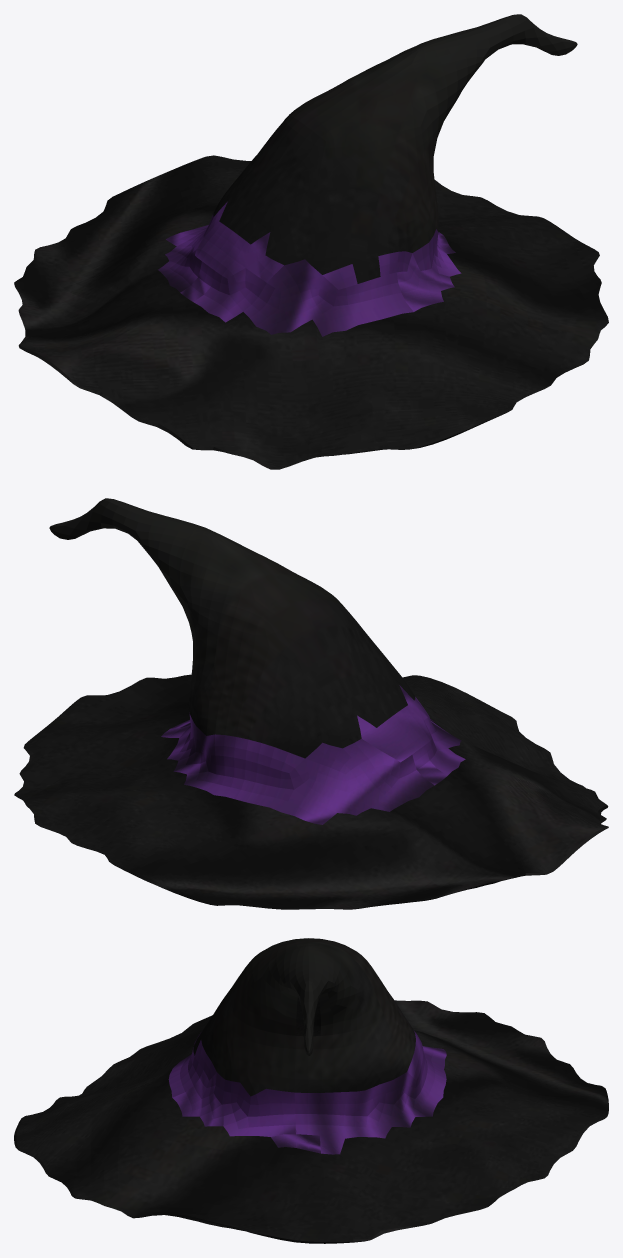
Rendered from hat.fbx.
3 views of the same model, one above another, from view 1: azimuth 30°, elevation 25°; view 2: azimuth 150°, elevation 25°; view 3: azimuth 270°, elevation 25° (orthographic). The views are drawn at different scales.
Parts seen in each view (by area): view 1: hat; view 2: hat; view 3: hat.
Part boxes in pixels (x1,y1,x2,y2): hat: [14, 14, 608, 469]; hat: [14, 498, 608, 909]; hat: [14, 938, 608, 1243].
Bounding box in the file's own units: 201 × 103 × 199.
